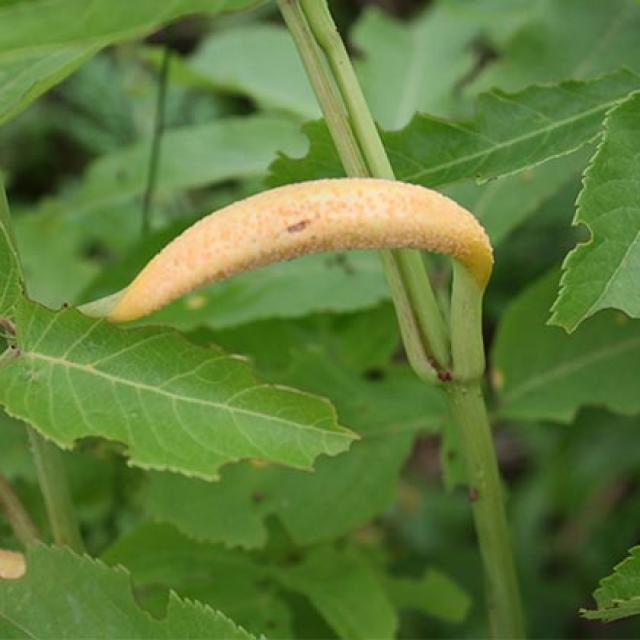Elderberry_rust: (76, 156, 538, 328)
